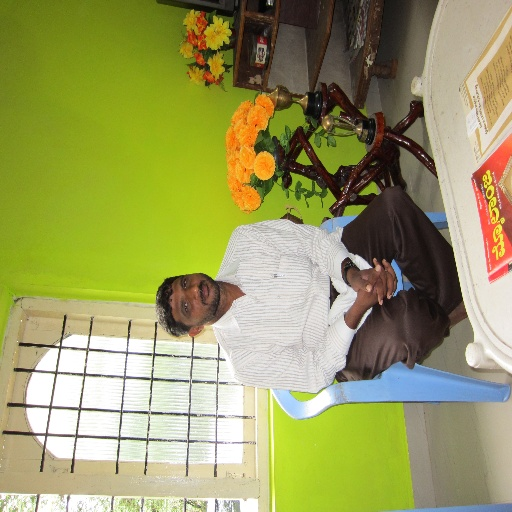hand: (357, 267, 397, 305)
